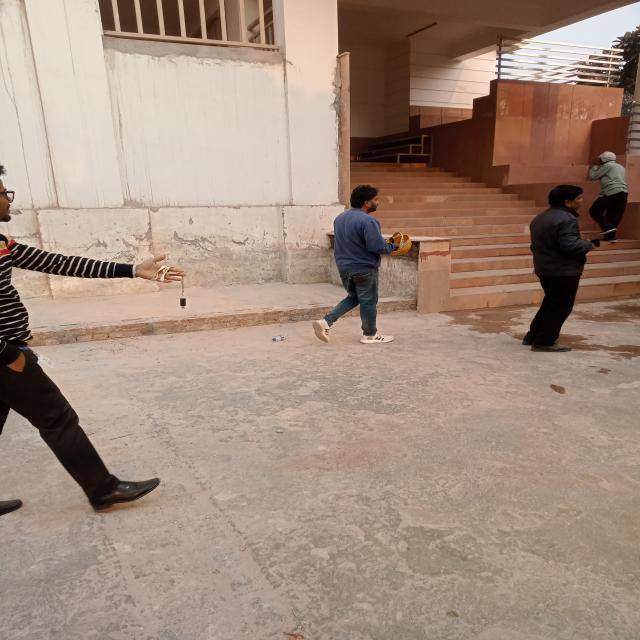unsafe: (319, 183, 425, 346), (528, 183, 603, 354), (589, 146, 628, 243)
